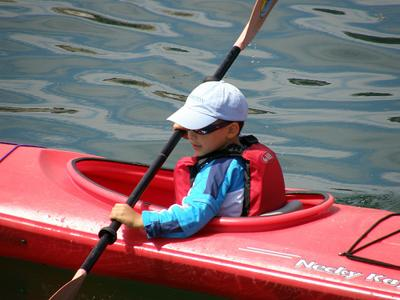person: (107, 81, 249, 240)
